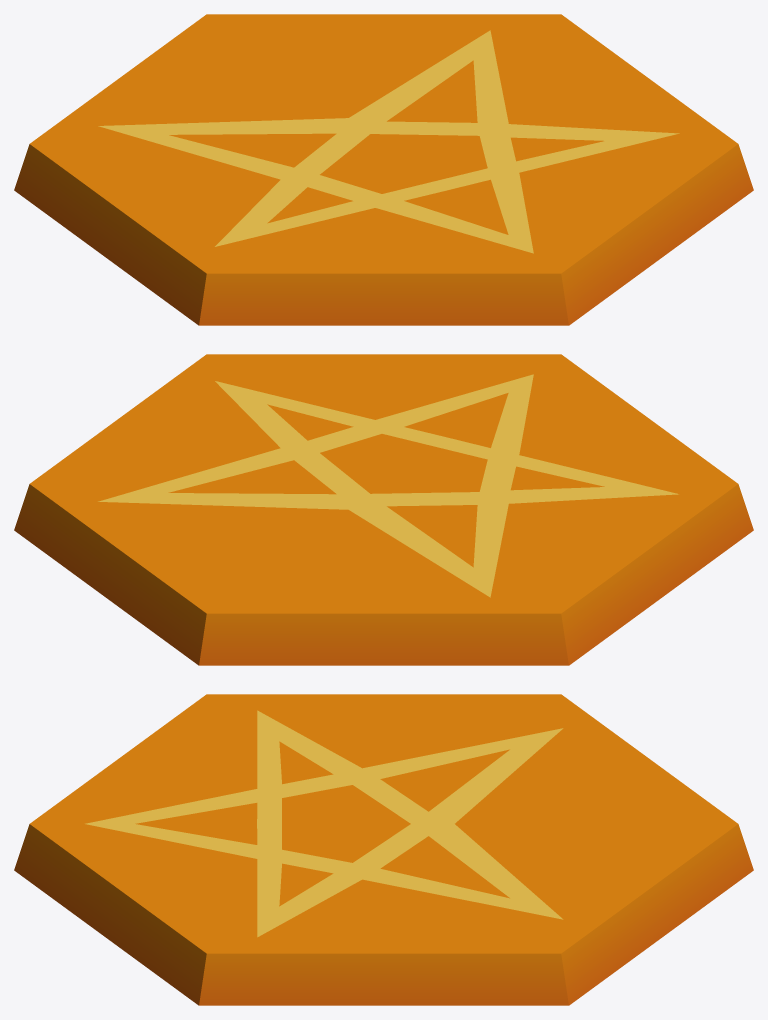
File: GemPentagram.fbx
3 views of the same model, one above another, from view 1: azimuth 30°, elevation 25°; view 2: azimuth 150°, elevation 25°; view 3: azimuth 270°, elevation 25° (orthographic).
Parts seen in each view (by area): view 1: GemPentagram; view 2: GemPentagram; view 3: GemPentagram.
Boxes of the visible parts, x1,y1,x2,y2 form: GemPentagram: (14, 14, 753, 325); GemPentagram: (14, 354, 753, 665); GemPentagram: (14, 694, 753, 1005).
Bounding box in the file's own units: 8.9 × 0.7117 × 10.28.
